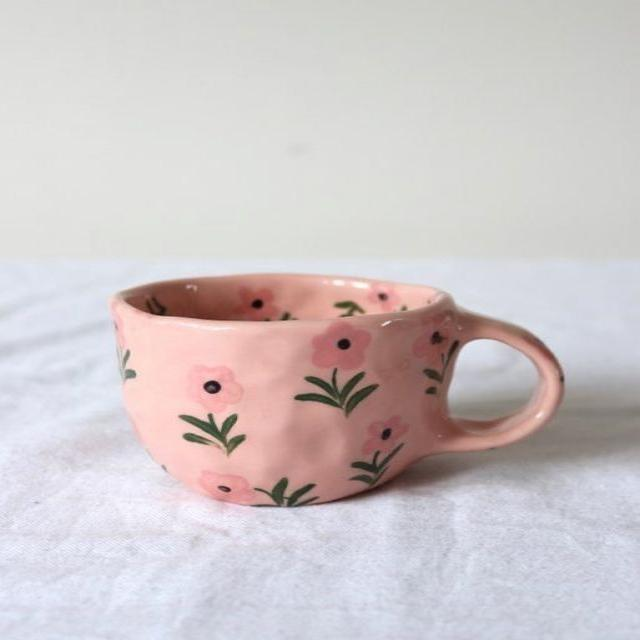glass cup: (110, 271, 566, 507)
